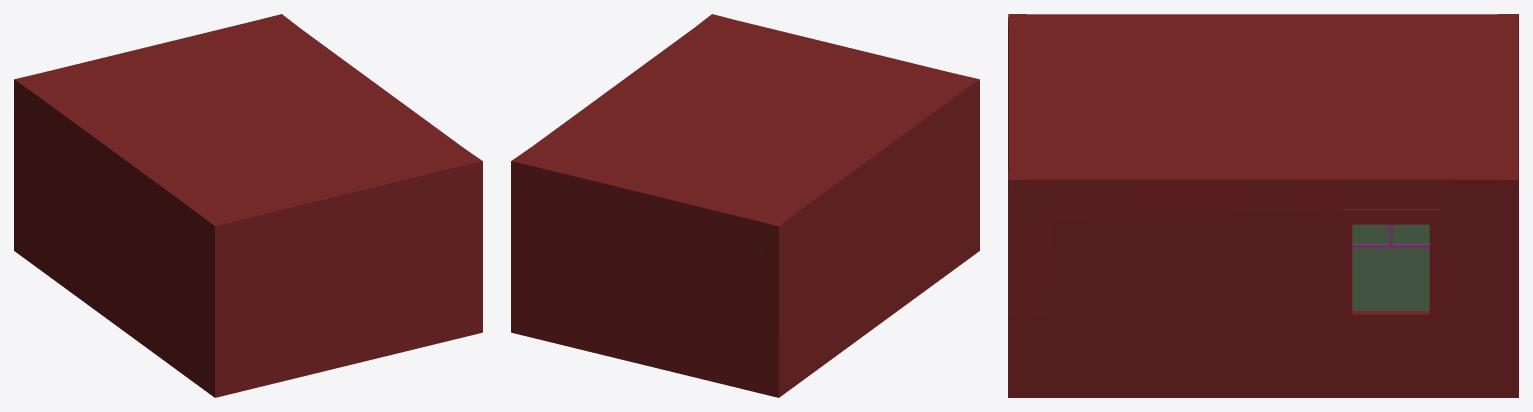
Rendered from room.fbx.
The picture shows the model from 3 angles, left to right: view 1: azimuth 30°, elevation 25°; view 2: azimuth 150°, elevation 25°; view 3: azimuth 270°, elevation 25°; orthographic projection. The views are drawn at different scales.
Parts seen in each view (by area): view 1: pCube1; view 2: pCube1; view 3: pCube1, pCube2.
Boxes of the visible parts, x1=… form: pCube1: x1=14, y1=14, x2=482, y2=397; pCube1: x1=511, y1=14, x2=979, y2=397; pCube1: x1=1008, y1=14, x2=1518, y2=397; pCube2: x1=1352, y1=224, x2=1429, y2=310.
Size of the model in its own units: 22.62 by 13.8 by 29.22.
